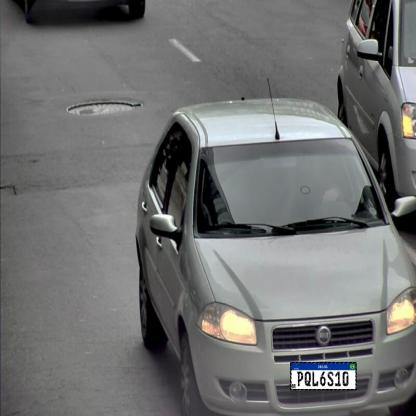PlacaM: (290, 362, 357, 390)
